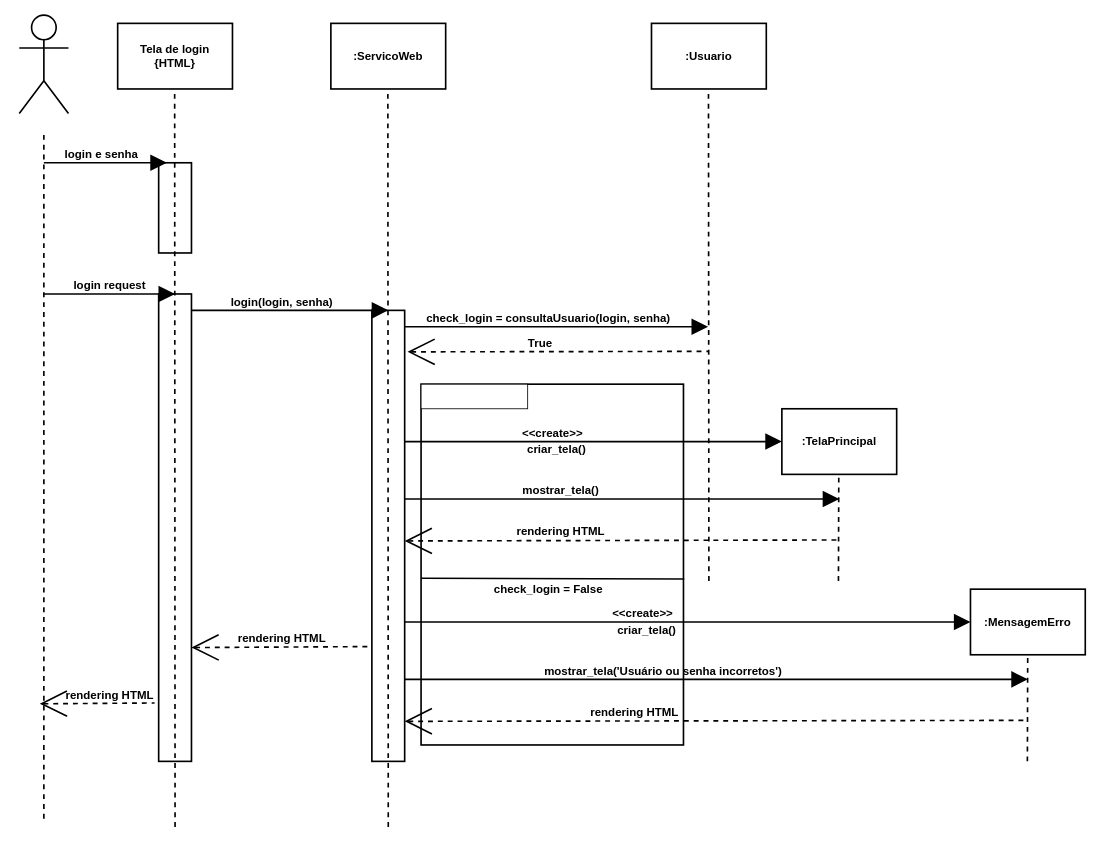
This 1100x842 diagram has some shape labels left out. The shapes that lost their labels are listed below. From the top down, each one's centre as x and y in pixels, then its label:
At (x=43, y=64): "Usuário".
At (x=474, y=396): "check_login = True".
